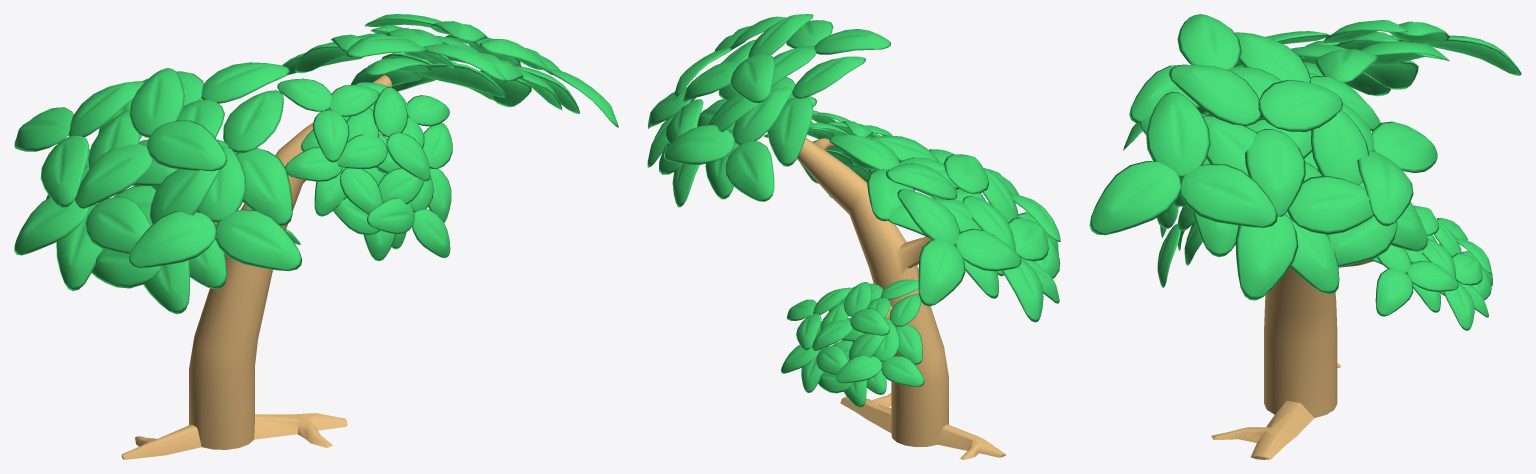
Rendered from Arbol.fbx.
3 renders of one model, left to right at view 1: azimuth 30°, elevation 25°; view 2: azimuth 150°, elevation 25°; view 3: azimuth 270°, elevation 25°, orthographic. The views are drawn at different scales.
Visible parts, largest first — view 1: Rama.004, Rama.003, Tronco.001, Rama; view 2: Rama, Rama.004, Tronco.001, Rama.002, Rama.003; view 3: Rama, Tronco.001, Rama.004, Rama.002, Rama.003.
Boxes of the visible parts, left/top/right/bottom form: Rama.004: left=14, top=62, right=302, bottom=314; Rama.003: left=277, top=78, right=452, bottom=261; Tronco.001: left=121, top=75, right=392, bottom=459; Rama: left=282, top=14, right=618, bottom=127; Rama: left=647, top=14, right=891, bottom=207; Rama.004: left=829, top=135, right=1060, bottom=322; Tronco.001: left=797, top=138, right=1005, bottom=459; Rama.002: left=781, top=279, right=924, bottom=407; Rama.003: left=764, top=110, right=900, bottom=198; Rama: left=1089, top=14, right=1437, bottom=300; Tronco.001: left=1211, top=171, right=1373, bottom=459; Rama.004: left=1123, top=20, right=1521, bottom=150; Rama.002: left=1370, top=205, right=1492, bottom=330; Rama.003: left=1156, top=72, right=1316, bottom=287.
Size of the model in its own units: 503 by 383 by 340.
